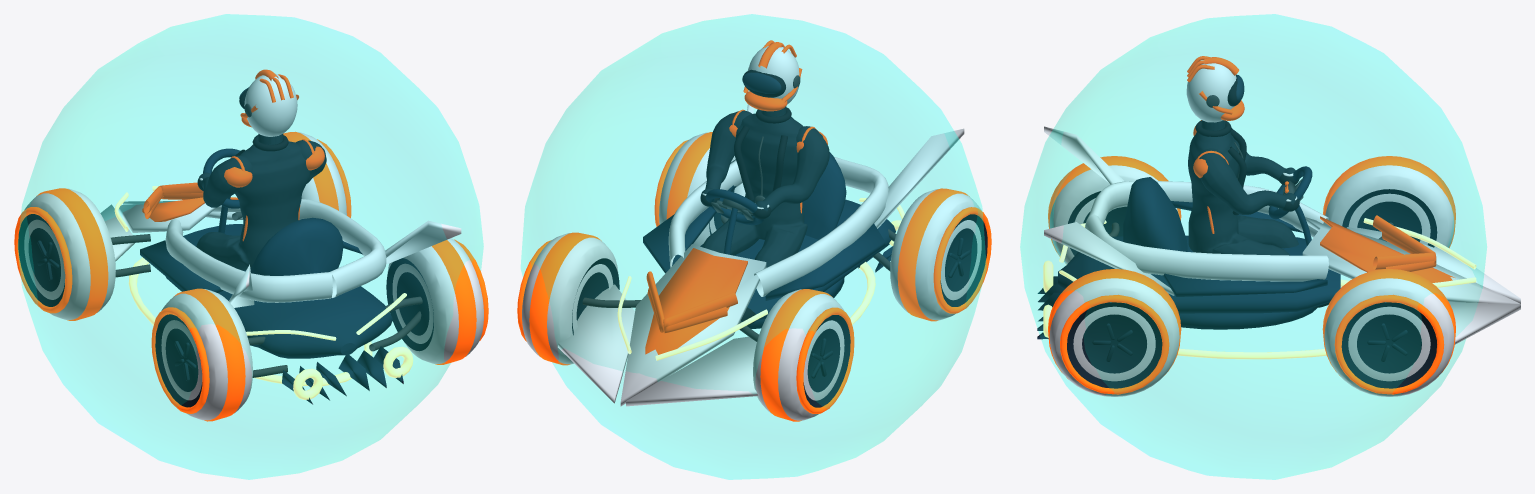
Rendered from obsidian.glb.
3 renders of one model, left to right at view 1: azimuth 30°, elevation 25°; view 2: azimuth 150°, elevation 25°; view 3: azimuth 270°, elevation 25°, orthographic.
Visible parts, largest first — view 1: obsidian:aegis-shield, obsidian:coachwork-batch, obsidian:coachwork-batch.001, obsidian:torso, obsidian:rounded-wheel-shell.003, obsidian:rounded-wheel-shell.002, obsidian:rounded-wheel-shell, obsidian:translucent-tire-band, obsidian:translucent-tire-band.002, obsidian:helmet-shell, obsidian:translucent-tire-band.003, obsidian:recessed-colored-hub (+15 smaller); view 2: obsidian:aegis-shield, obsidian:coachwork-batch.001, obsidian:coachwork-batch, obsidian:torso, obsidian:arrow-bonnet-inlay, obsidian:rounded-wheel-shell.001, obsidian:rounded-wheel-shell.002, obsidian:rounded-wheel-shell, obsidian:translucent-tire-band.001, obsidian:translucent-tire-band, obsidian:translucent-tire-band.002, obsidian:arm-l-mesh (+19 smaller); view 3: obsidian:aegis-shield, obsidian:coachwork-batch.001, obsidian:coachwork-batch, obsidian:torso, obsidian:rounded-wheel-shell.003, obsidian:rounded-wheel-shell.001, obsidian:rounded-wheel-shell, obsidian:recessed-colored-hub.001, obsidian:recessed-colored-hub.003, obsidian:arm-r-mesh, obsidian:rounded-wheel-shell.002, obsidian:arrow-bonnet-inlay (+15 smaller).
Boxes of the visible parts, x1,y1,x2,y2 form: obsidian:aegis-shield: (18,14,483,479); obsidian:coachwork-batch: (140,196,403,404); obsidian:coachwork-batch.001: (100,199,461,307); obsidian:torso: (196,134,310,270); obsidian:rounded-wheel-shell.003: (387,238,483,363); obsidian:rounded-wheel-shell.002: (161,289,252,420); obsidian:rounded-wheel-shell: (24,188,115,319); obsidian:translucent-tire-band: (36,188,108,320); obsidian:translucent-tire-band.002: (173,288,245,421); obsidian:helmet-shell: (244,73,297,136); obsidian:translucent-tire-band.003: (432,240,476,364); obsidian:recessed-colored-hub: (18,214,64,306); obsidian:aegis-shield: (521,14,986,479); obsidian:coachwork-batch.001: (558,104,964,406); obsidian:coachwork-batch: (643,152,895,328); obsidian:torso: (702,106,807,267); obsidian:arrow-bonnet-inlay: (645,248,747,354); obsidian:rounded-wheel-shell.001: (522,233,618,364); obsidian:rounded-wheel-shell.002: (890,189,981,320); obsidian:rounded-wheel-shell: (753,289,844,420); obsidian:translucent-tire-band.001: (529,232,601,365); obsidian:translucent-tire-band: (760,289,832,421); obsidian:translucent-tire-band.002: (897,188,969,321); obsidian:arm-l-mesh: (755,126,829,211); obsidian:aegis-shield: (1020,14,1486,479); obsidian:coachwork-batch.001: (1044,126,1520,344); obsidian:coachwork-batch: (1037,177,1340,339); obsidian:torso: (1188,120,1298,255); obsidian:rounded-wheel-shell.003: (1049,278,1179,396); obsidian:rounded-wheel-shell.001: (1324,278,1454,396); obsidian:rounded-wheel-shell: (1325,165,1454,247); obsidian:recessed-colored-hub.001: (1341,302,1436,388); obsidian:recessed-colored-hub.003: (1067,302,1162,388); obsidian:arm-r-mesh: (1197,148,1296,214); obsidian:rounded-wheel-shell.002: (1049,165,1178,264); obsidian:arrow-bonnet-inlay: (1320,216,1454,282).
Size of the model in its own units: 4.3 by 4.3 by 4.61.
